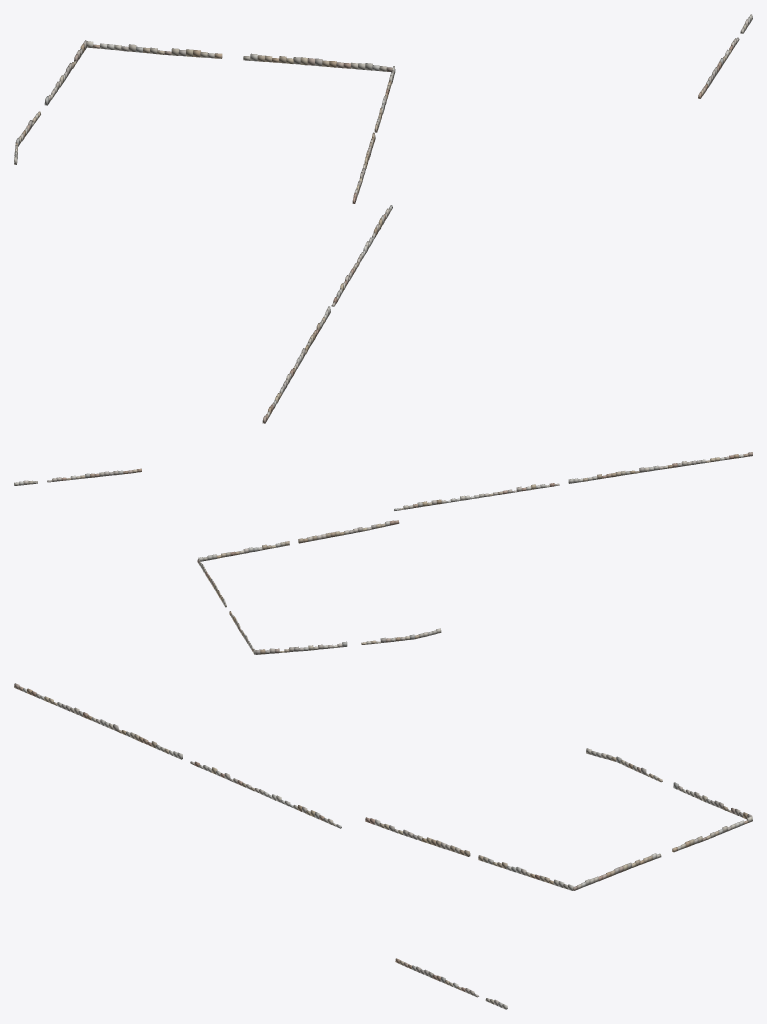
The model's file is farm_3_-6_far.glb.
3 renders of one model, top to bottom at view 1: azimuth 30°, elevation 25°; view 2: azimuth 150°, elevation 25°; view 3: azimuth 270°, elevation 25°, orthographic. The views are drawn at different scales.
Parts seen in each view (by area): view 1: geometry_0; view 2: geometry_0; view 3: geometry_0.
Part boxes in pixels (x1,y1,x2,y2): geometry_0: (14, 14, 752, 423); geometry_0: (14, 452, 752, 654); geometry_0: (14, 683, 752, 1009).
Bounding box in the file's own units: 198 × 8.48 × 199.
